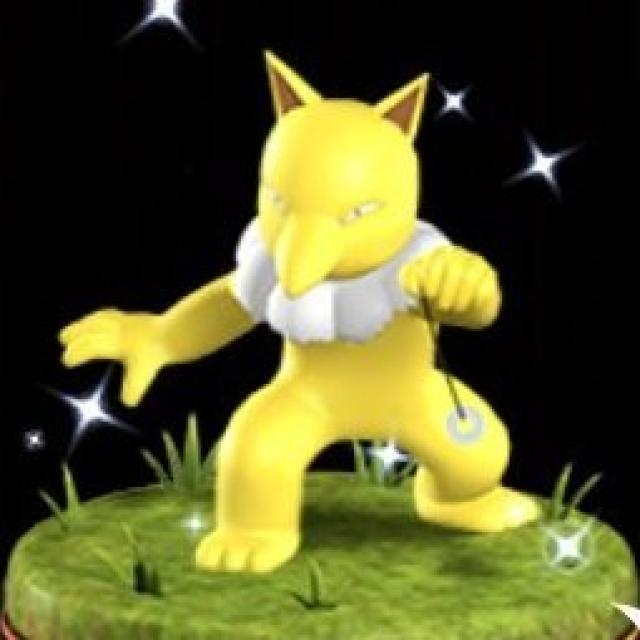Hypno: (169, 50, 513, 533)
